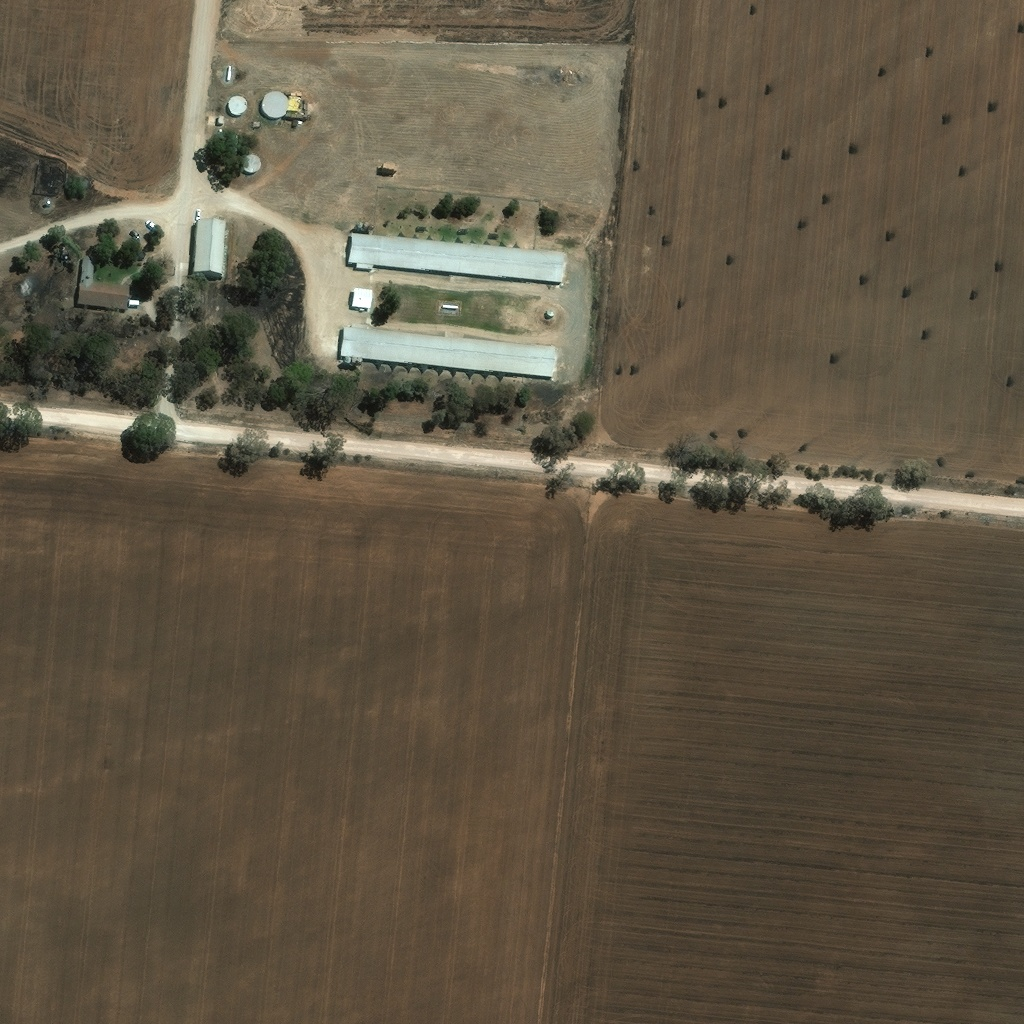0 no-damage: (340, 320, 554, 376), (347, 230, 566, 281), (78, 254, 131, 308), (194, 219, 226, 273), (261, 89, 290, 116), (353, 287, 373, 308), (228, 93, 249, 112), (242, 152, 263, 170), (547, 306, 557, 315), (219, 112, 228, 122), (228, 62, 233, 77), (130, 295, 140, 302), (344, 357, 351, 365), (445, 301, 459, 305), (47, 198, 52, 204), (352, 358, 356, 365)
4 un-classified: (227, 129, 245, 147), (356, 221, 364, 229), (365, 222, 371, 229), (373, 223, 377, 229)
